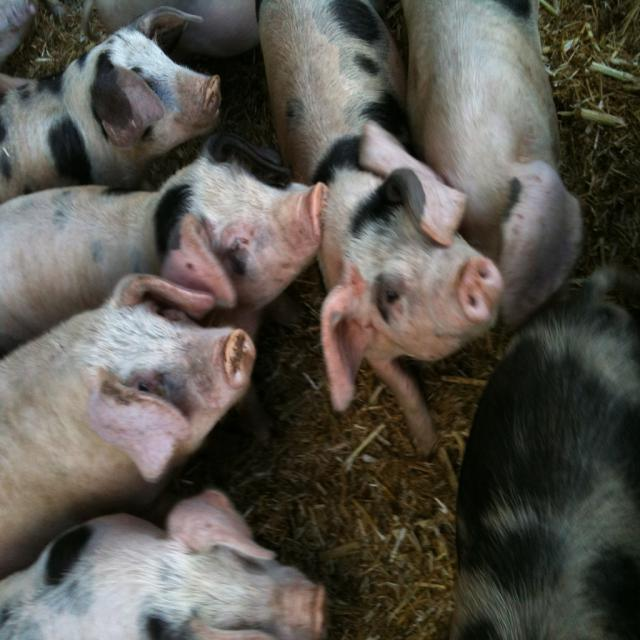Pig: (0, 0, 583, 639), (450, 266, 640, 640)
